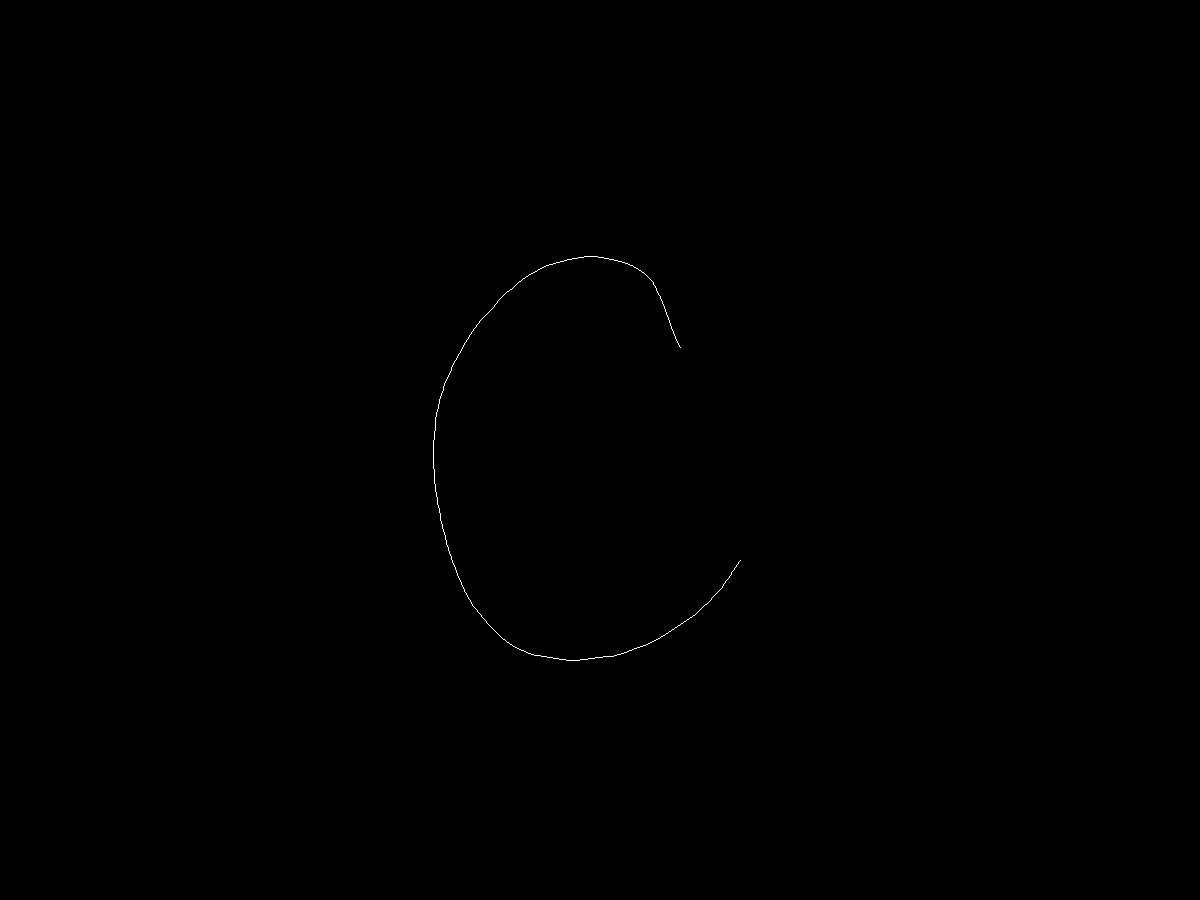dian1: (667, 336, 691, 355)
dian2: (727, 543, 752, 566)
